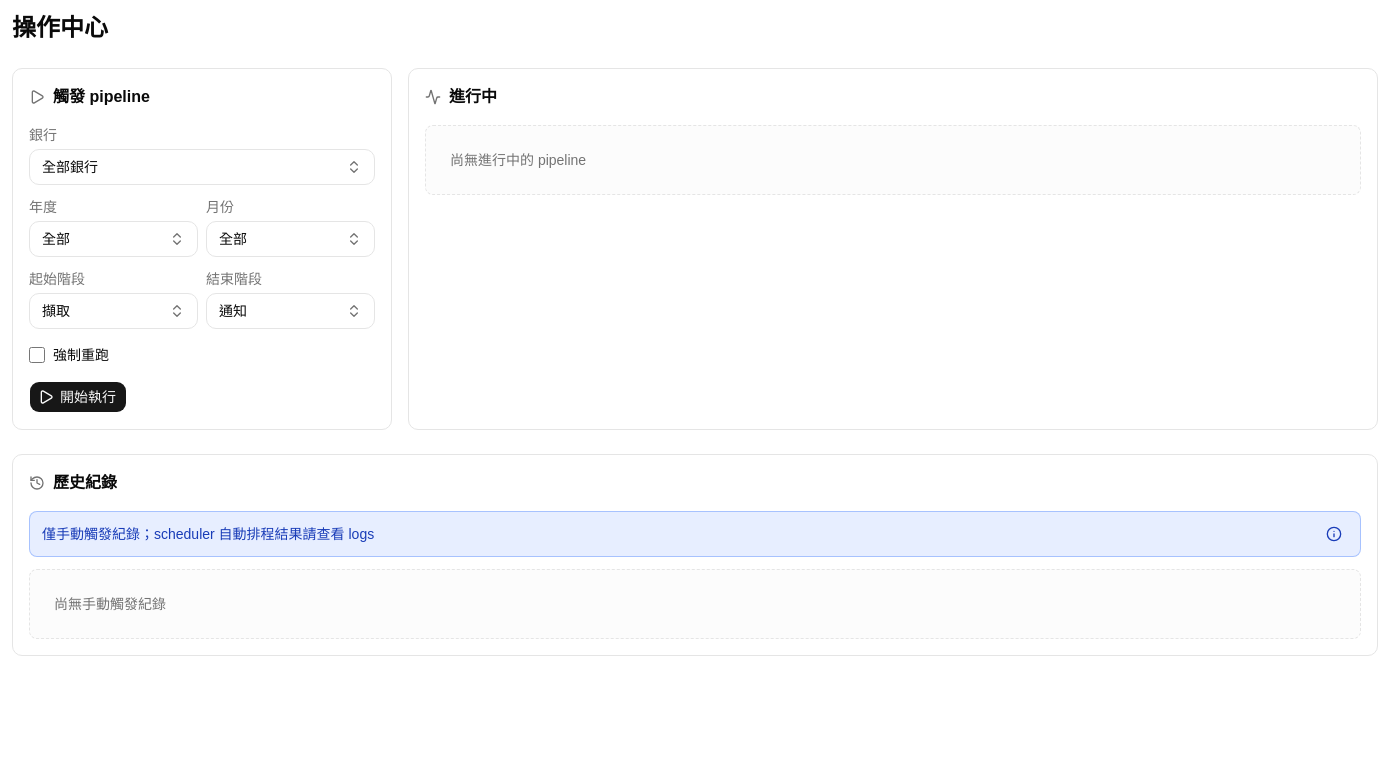
Test: OperationsPage › blocks submit when from_stage is after to_stage
Expected: the dropdown labelled "銀行" is shown, left=29, top=149, right=375, bottom=185
Click the dropdown named "起始階段". click: (114, 311)
box: left=29, top=293, right=198, bottom=329
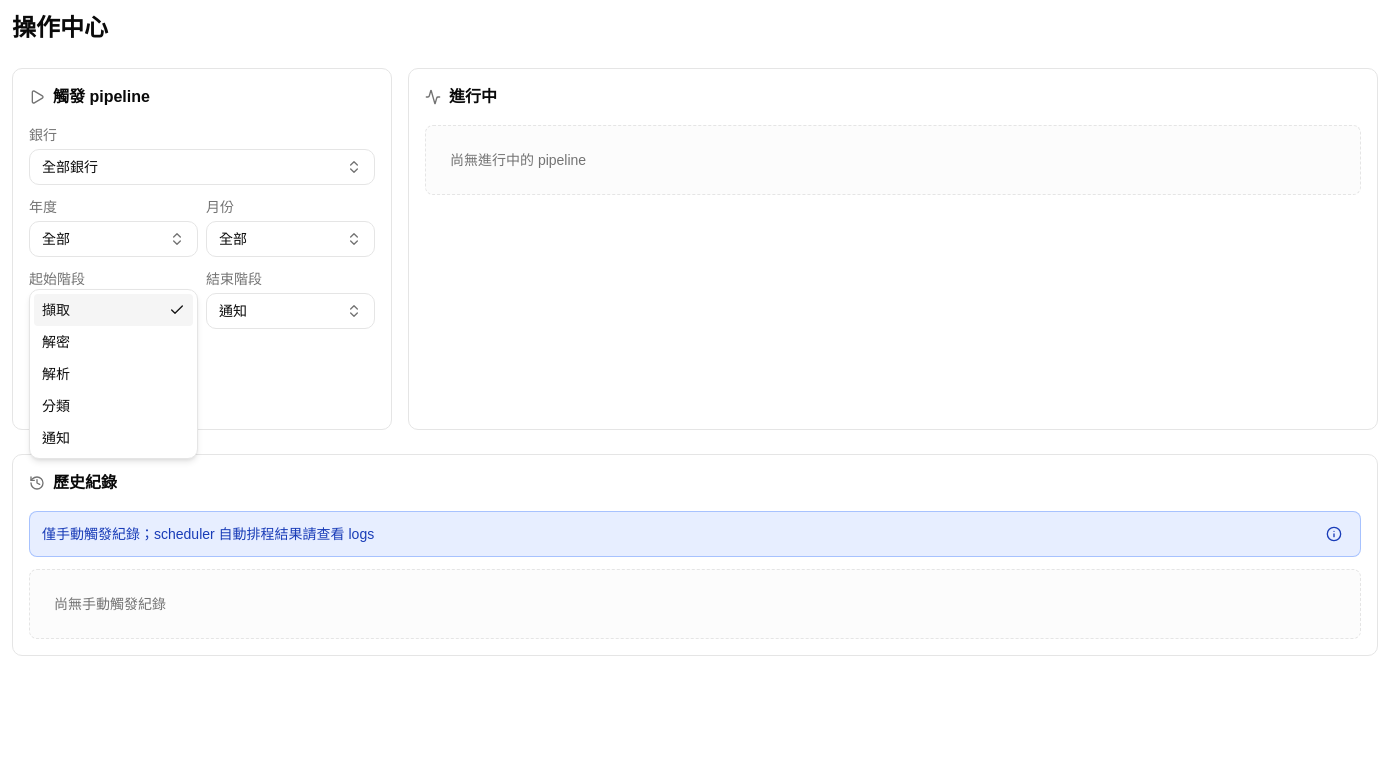
Click the option "分類". click: (56, 406)
box: left=42, top=398, right=70, bottom=414
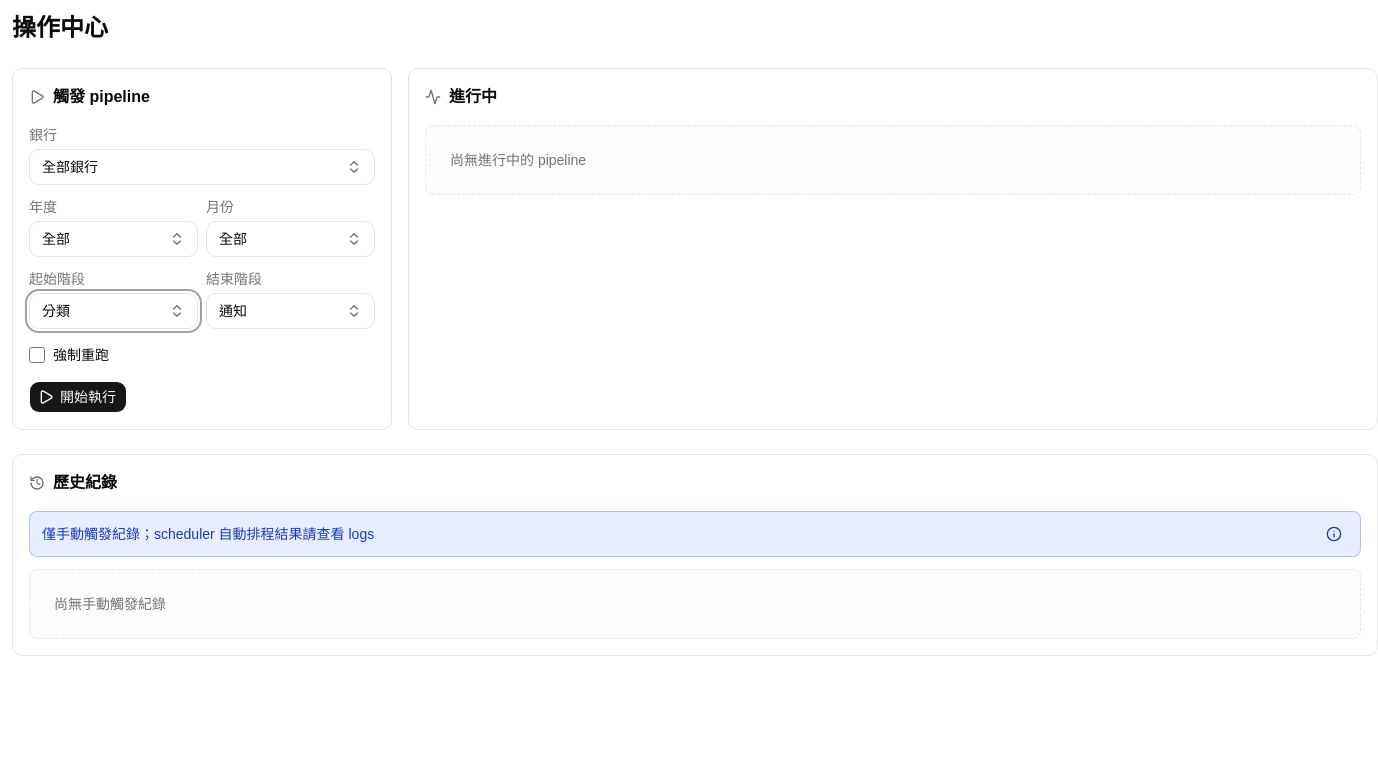
Click the dropdown named "結束階段". click: (290, 311)
box: left=206, top=293, right=375, bottom=329
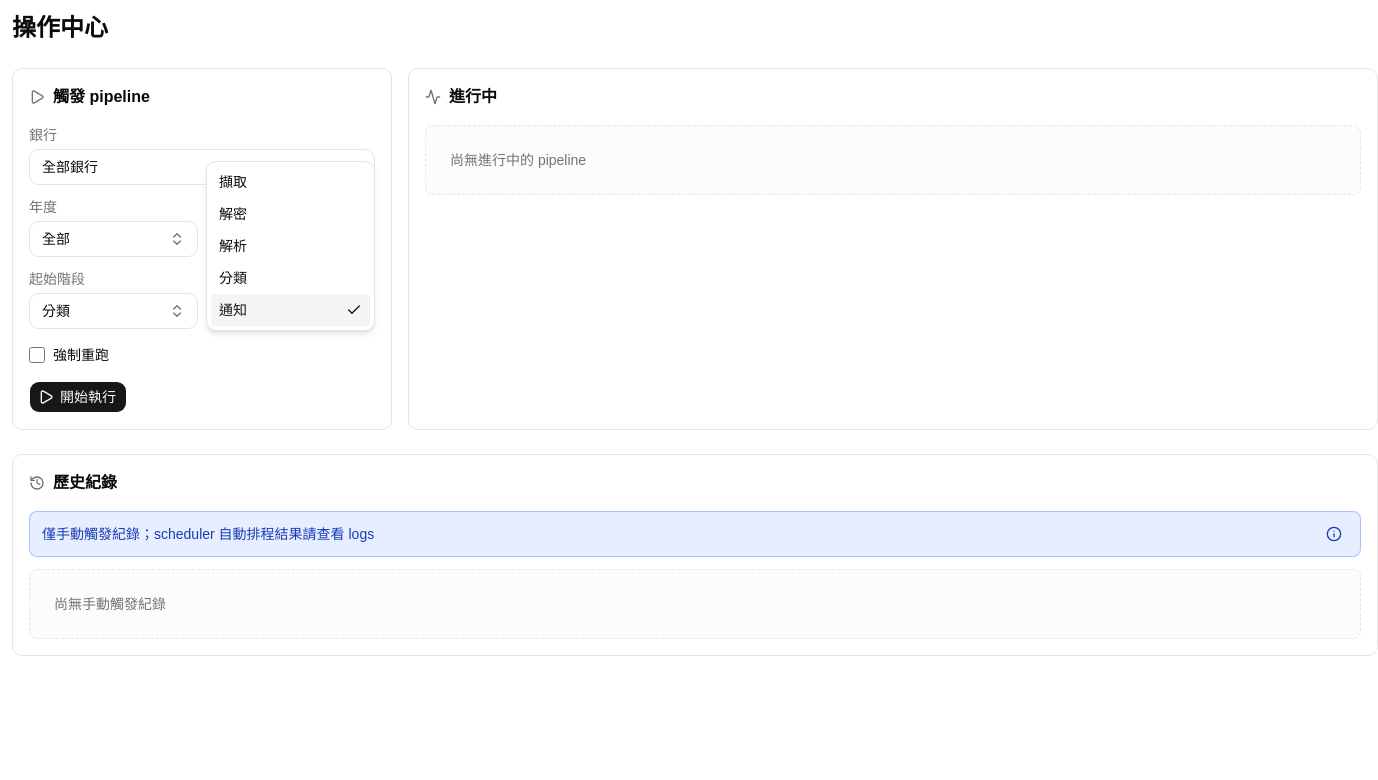
Click the option "解析". click: (233, 246)
box: left=219, top=238, right=247, bottom=254
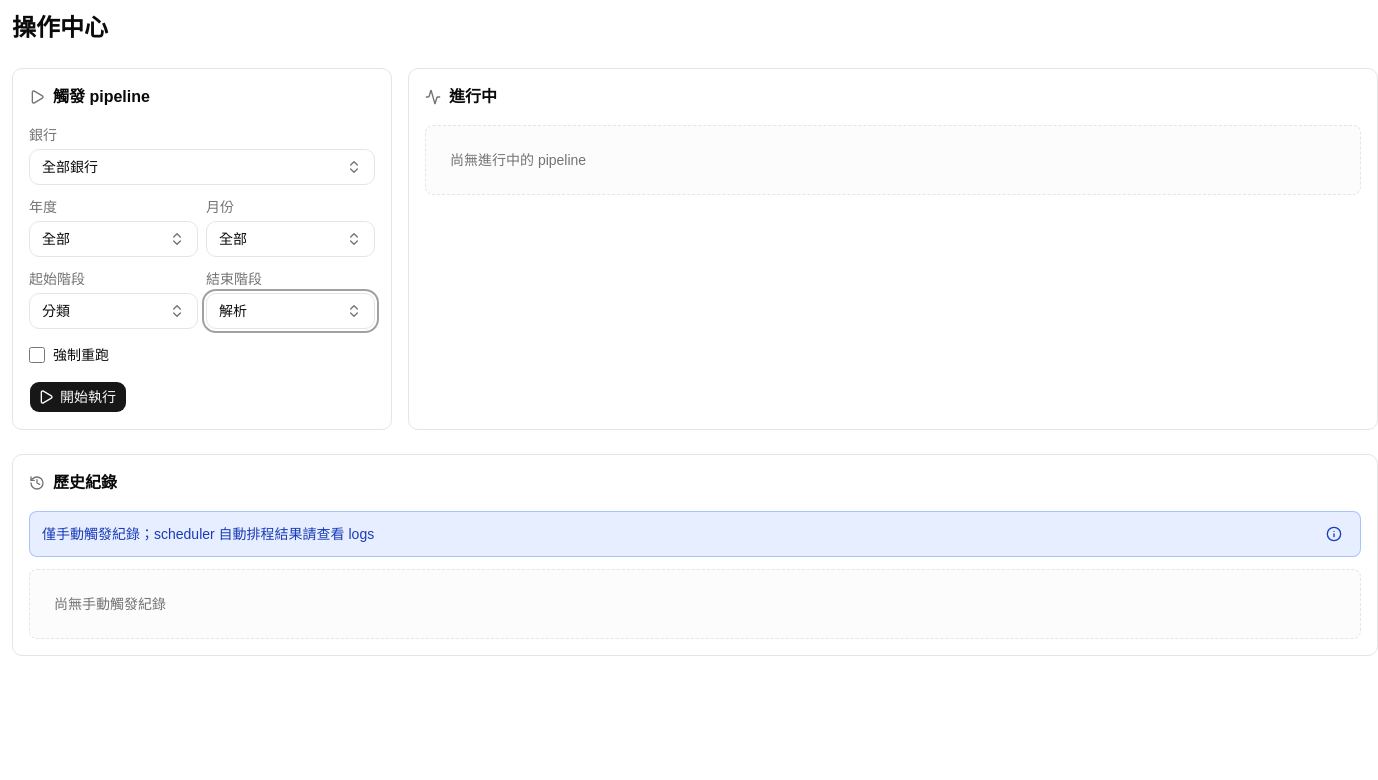
Click the button "開始執行". click: (78, 397)
box: left=29, top=381, right=127, bottom=413
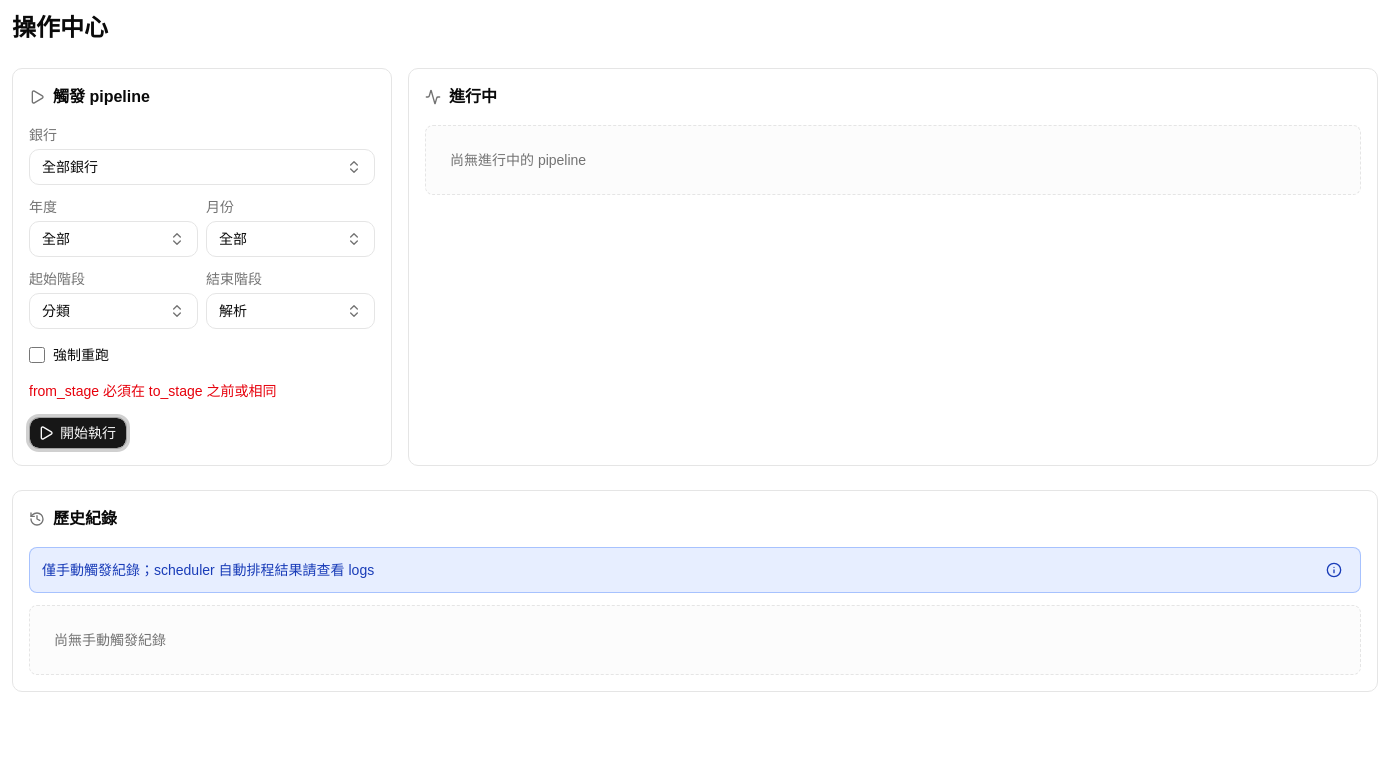
Expected: the message reads "from_stage 必須在 to_stage 之前或相同", left=29, top=383, right=276, bottom=399
